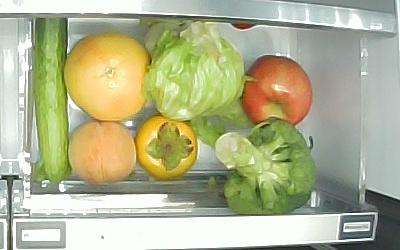apple: (241, 54, 315, 127)
broccoli: (212, 117, 321, 216)
cucumber: (34, 18, 70, 182)
grapefruit: (62, 33, 151, 121)
lettuce: (148, 18, 244, 121)
peach: (68, 120, 137, 184)
persimmon: (135, 115, 198, 180)
